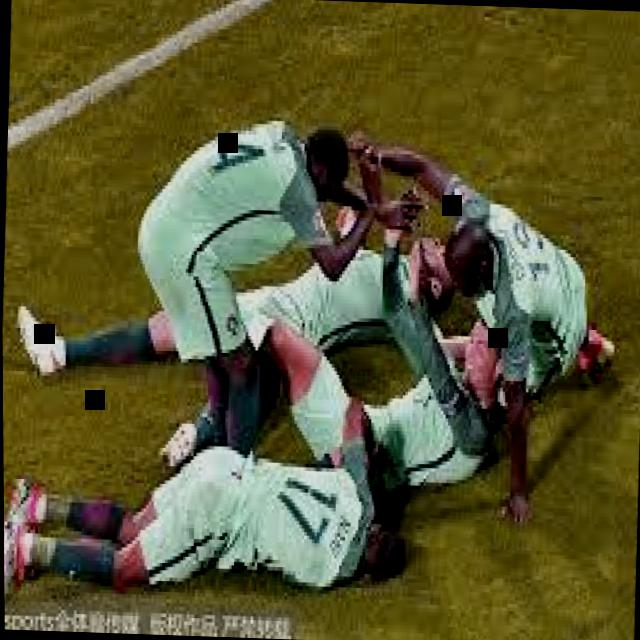Fall-Detected: (28, 148, 431, 442)
